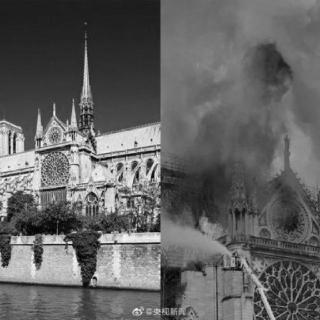Smoke: (163, 4, 240, 158)
